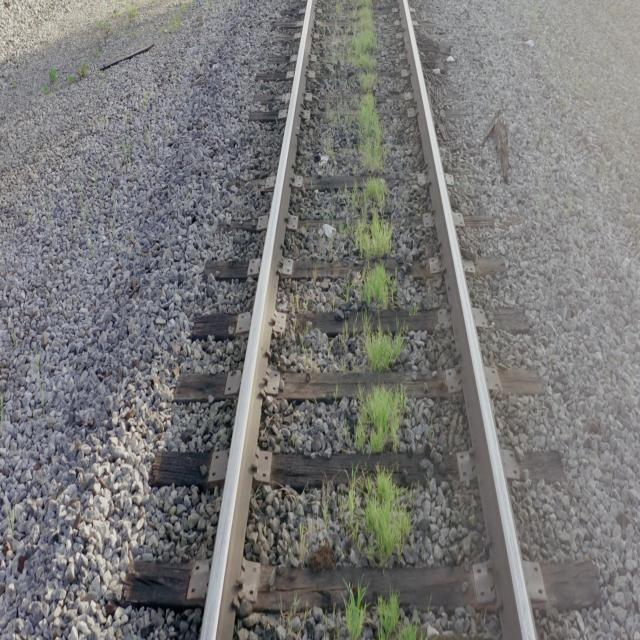Plant: (350, 0, 385, 171), (354, 178, 396, 309), (362, 469, 410, 569), (354, 387, 405, 453), (364, 322, 401, 373), (378, 593, 418, 640), (345, 582, 368, 640), (346, 587, 366, 638), (348, 484, 356, 524)
